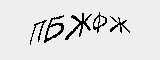Б: (45, 14, 66, 42)
Ж: (66, 12, 93, 42), (109, 15, 131, 34)
П: (28, 19, 44, 46)
Ф: (90, 10, 107, 35)
